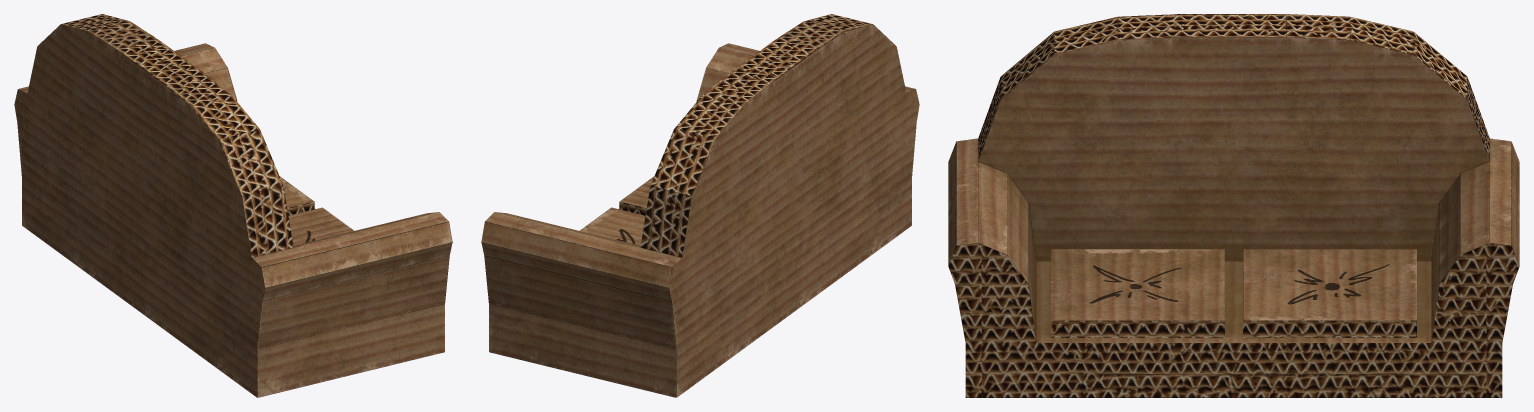
Rendered from sofa_01.fbx.
3 renders of one model, left to right at view 1: azimuth 30°, elevation 25°; view 2: azimuth 150°, elevation 25°; view 3: azimuth 270°, elevation 25°, orthographic. The views are drawn at different scales.
Visible parts, largest first — view 1: sofa_2; view 2: sofa_2; view 3: sofa_2.
Part boxes in pixels (x1,y1,x2,y2): sofa_2: (14, 14, 452, 397); sofa_2: (481, 14, 919, 397); sofa_2: (948, 14, 1519, 397).
Size of the model in its own units: 108 by 135 by 250.
Materials: 1 (1 with a texture image).
